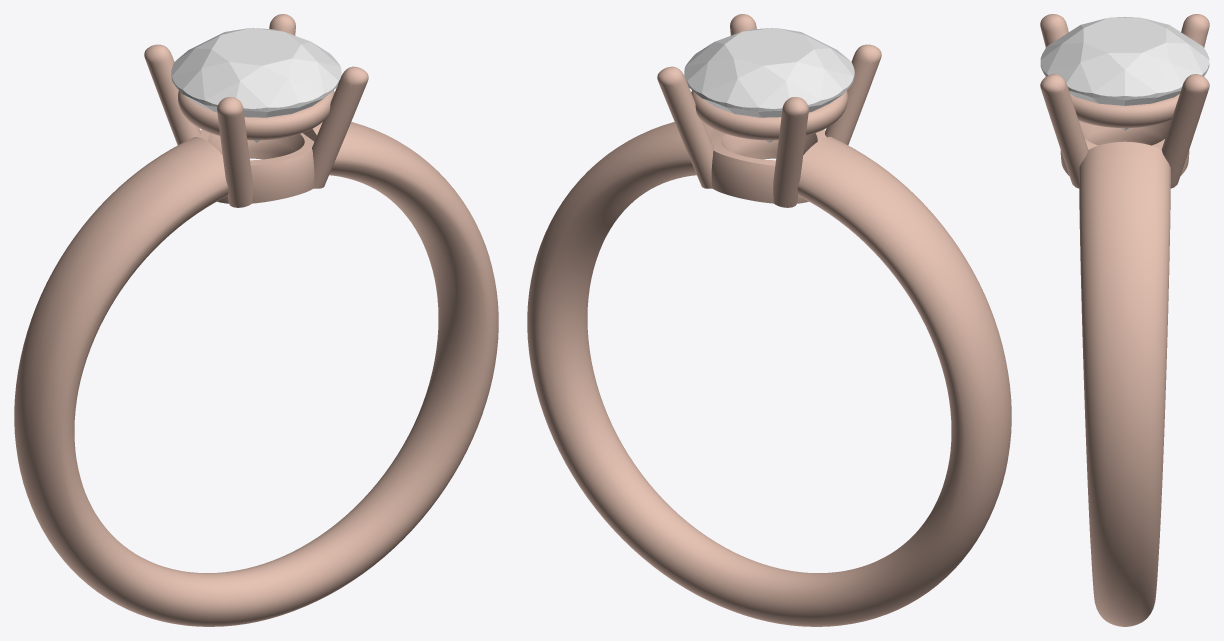
Rendered from diamond-round-rosegold-4prong-taperedband-nosidestones.glb.
3 views of the same model, side by side, from view 1: azimuth 30°, elevation 25°; view 2: azimuth 150°, elevation 25°; view 3: azimuth 270°, elevation 25° (orthographic).
Parts seen in each view (by area): view 1: metal, stone; view 2: metal, stone; view 3: metal, stone.
Boxes of the visible parts, x1,y1,x2,y2 form: metal: (14, 14, 498, 626); stone: (171, 28, 341, 142); metal: (527, 14, 1011, 626); stone: (684, 28, 854, 142); metal: (1040, 14, 1209, 626); stone: (1040, 17, 1209, 130).
Bounding box in the file's own units: 20.5 × 23.81 × 6.45.
